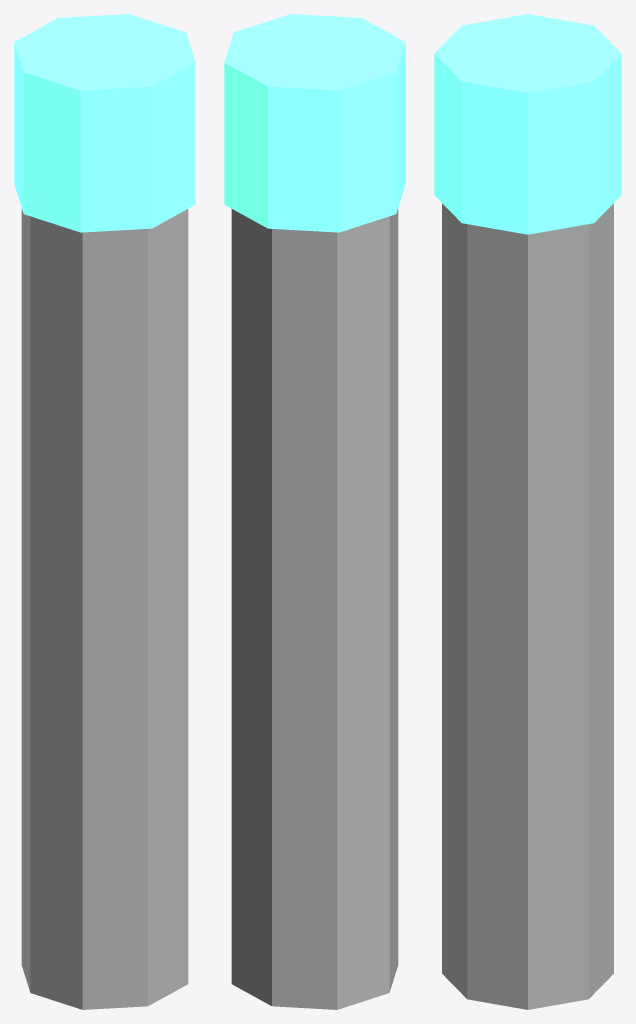
Rendered from item_F1_Medpen.glb.
3 views of the same model, side by side, from view 1: azimuth 30°, elevation 25°; view 2: azimuth 150°, elevation 25°; view 3: azimuth 270°, elevation 25° (orthographic).
Parts seen in each view (by area): view 1: Item_F1_Medpen; view 2: Item_F1_Medpen; view 3: Item_F1_Medpen.
Part boxes in pixels (x1,y1,x2,y2): Item_F1_Medpen: [14, 14, 195, 1009]; Item_F1_Medpen: [224, 14, 405, 1009]; Item_F1_Medpen: [434, 14, 621, 1009].
Bounding box in the file's own units: 0.024 × 0.13 × 0.024.
